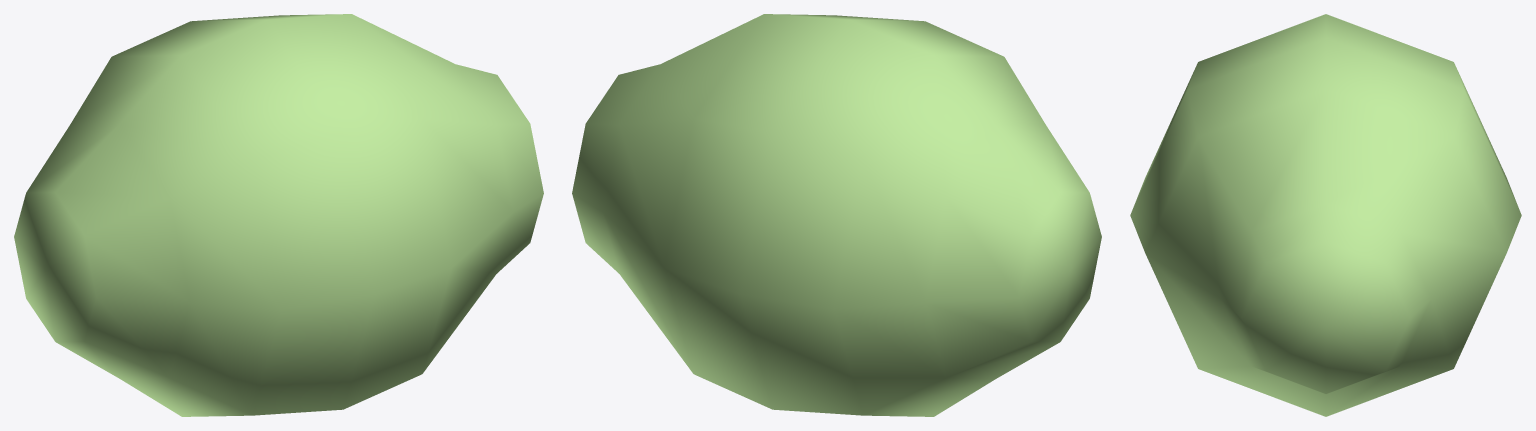
File: yeast.fbx
3 renders of one model, left to right at view 1: azimuth 30°, elevation 25°; view 2: azimuth 150°, elevation 25°; view 3: azimuth 270°, elevation 25°, orthographic. The views are drawn at different scales.
Visible parts, largest first — view 1: yeast1; view 2: yeast1; view 3: yeast1.
Part boxes in pixels (x1=…): yeast1: x1=14, y1=14, x2=543, y2=416; yeast1: x1=572, y1=14, x2=1101, y2=416; yeast1: x1=1130, y1=14, x2=1521, y2=416.
Size of the model in its own units: 14.05 by 11.07 by 11.07.
